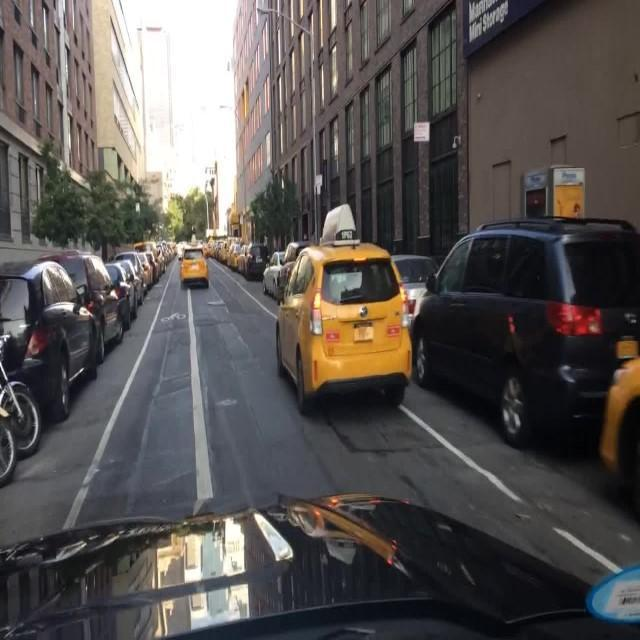normal: (411, 215, 640, 448), (273, 238, 411, 407), (0, 246, 102, 420), (37, 250, 127, 355), (0, 330, 43, 468), (391, 256, 437, 318), (108, 261, 143, 321), (111, 253, 152, 294), (180, 249, 211, 289), (243, 243, 268, 281)
